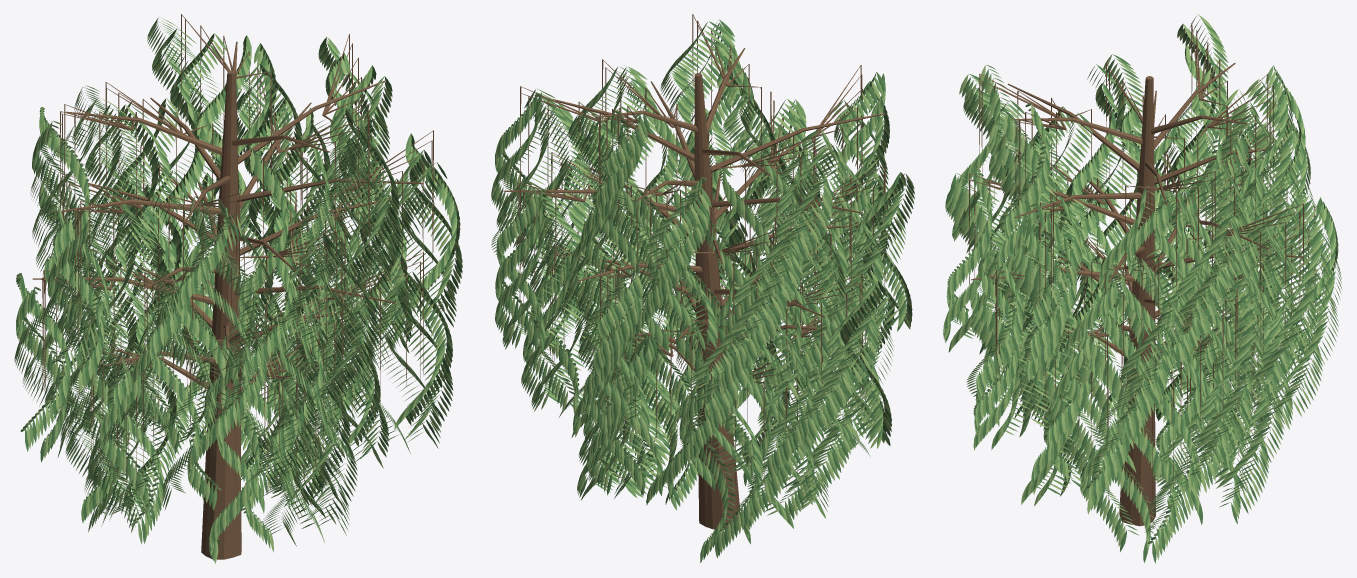
Rendered from weeping-willow.glb.
The picture shows the model from 3 angles, left to right: view 1: azimuth 30°, elevation 25°; view 2: azimuth 150°, elevation 25°; view 3: azimuth 270°, elevation 25°; orthographic projection. The views are drawn at different scales.
Visible parts, largest first — view 1: weeping-willow; view 2: weeping-willow; view 3: weeping-willow.
Part boxes in pixels (x1,y1,x2,y2): weeping-willow: (14, 14, 462, 563); weeping-willow: (491, 14, 914, 562); weeping-willow: (943, 14, 1341, 563).
Bounding box in the file's own units: 3.5 × 4.2 × 3.3.
